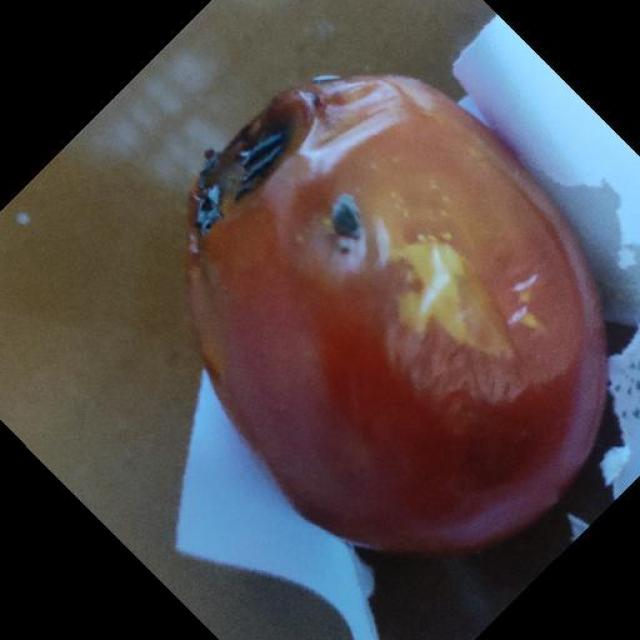Stale_tomato: (188, 85, 612, 558)
